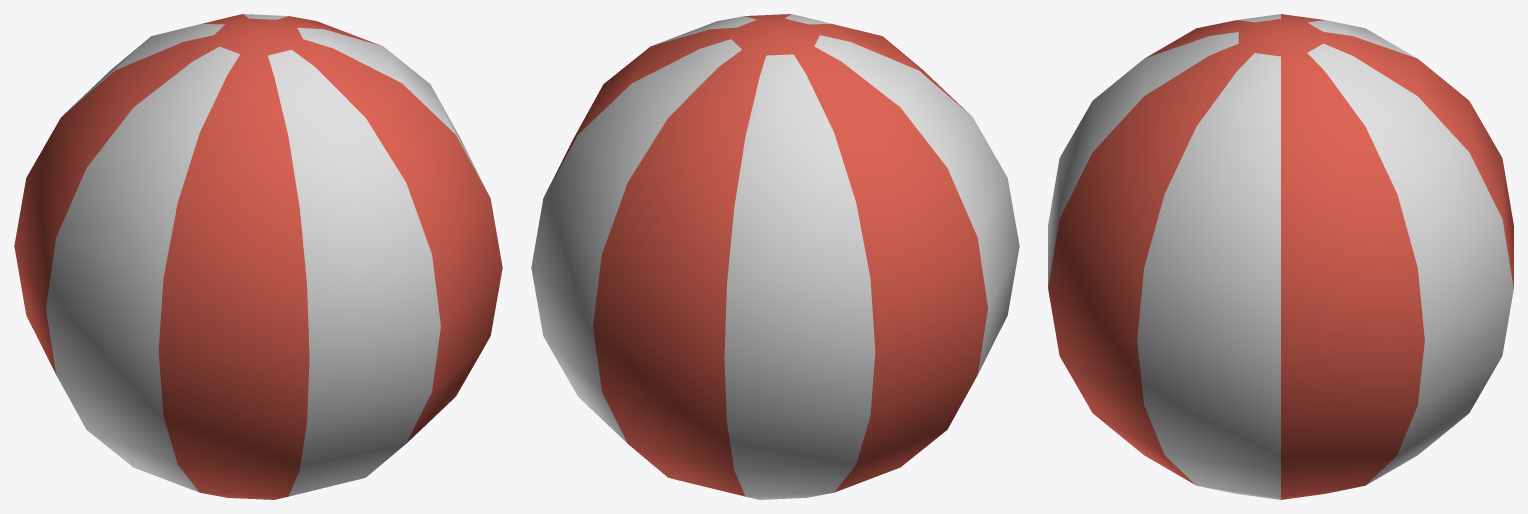
Rendered from Adorno_umiBall.fbx.
3 renders of one model, left to right at view 1: azimuth 30°, elevation 25°; view 2: azimuth 150°, elevation 25°; view 3: azimuth 270°, elevation 25°, orthographic.
Parts seen in each view (by area): view 1: pSphere1; view 2: pSphere1; view 3: pSphere1.
Part boxes in pixels (box(x1,y1,x2,y2)): pSphere1: box(14, 14, 502, 499); pSphere1: box(531, 14, 1019, 499); pSphere1: box(1048, 14, 1513, 499).
Bounding box in the file's own units: 4.09 × 4.15 × 3.89.
